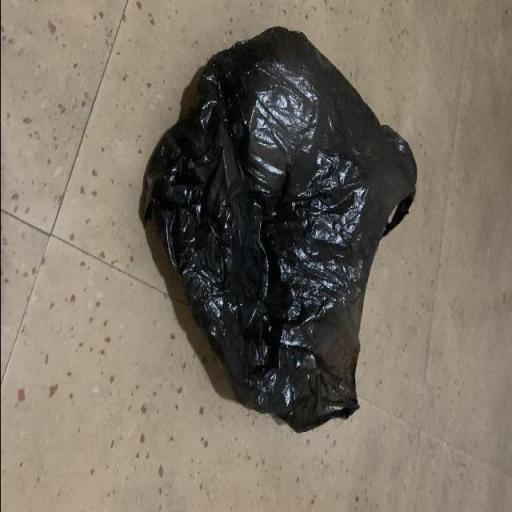plastic-bag: (134, 24, 420, 438)
